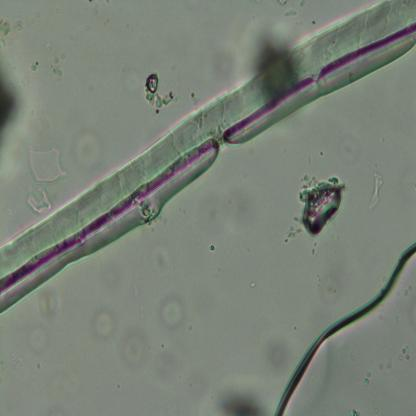Air bubble: (270, 236, 416, 416)
Background material: (287, 163, 349, 240), (22, 138, 66, 224), (205, 375, 268, 416), (241, 27, 289, 79), (62, 132, 104, 180), (254, 334, 297, 378), (141, 66, 177, 116), (0, 74, 24, 140), (154, 296, 194, 334), (118, 329, 148, 370), (0, 17, 29, 49), (24, 322, 53, 354), (32, 282, 58, 316), (89, 310, 116, 339), (338, 130, 358, 164), (371, 166, 384, 209), (47, 56, 71, 74), (398, 345, 410, 363), (283, 8, 297, 19), (27, 61, 39, 72), (364, 368, 370, 387), (208, 240, 216, 253), (275, 0, 288, 7)
Hair: (0, 0, 416, 289)
